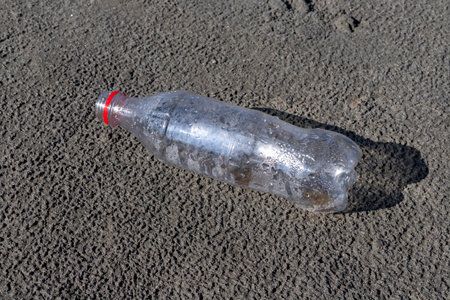plasticbottle: (92, 79, 363, 218)
